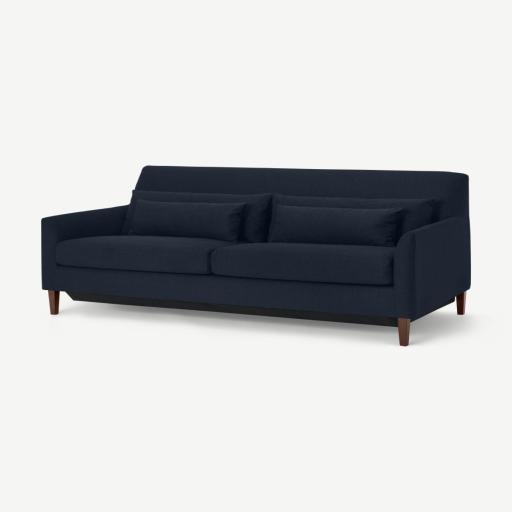back_cushion: (127, 166, 468, 246)
base: (54, 266, 397, 317)
left_arm: (394, 217, 470, 319)
legs: (398, 318, 410, 346), (49, 290, 59, 314), (457, 292, 464, 314)
right_arm: (42, 205, 128, 289)
seat_cushion: (57, 235, 394, 285)
two-seater: (0, 0, 511, 512)
